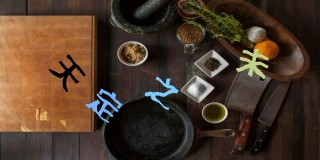之: (144, 76, 178, 111)
天: (49, 55, 85, 92)
定: (85, 88, 124, 123)
未: (235, 48, 269, 80)
